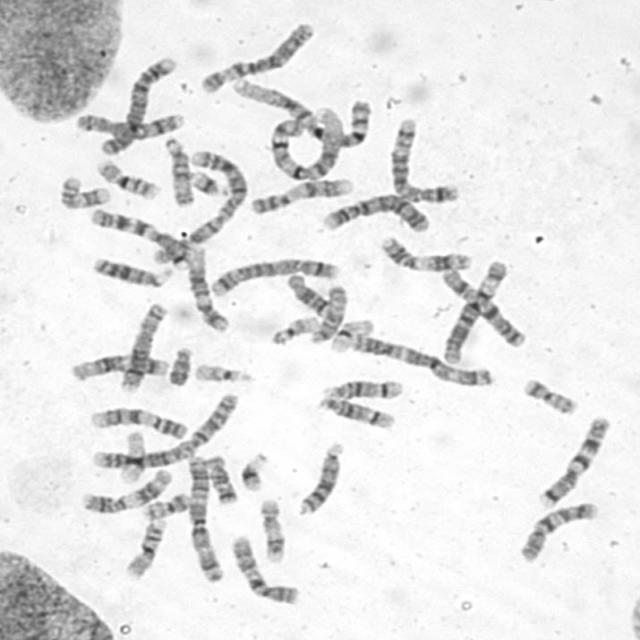A1: (228, 75, 374, 148), (266, 105, 346, 183)
A2: (92, 393, 242, 473), (152, 150, 248, 266)
A3: (350, 331, 497, 387), (186, 455, 230, 586)
B4: (98, 54, 179, 156), (318, 192, 431, 234)
B5: (387, 115, 462, 205), (208, 258, 340, 298)
C10: (230, 534, 303, 606), (516, 500, 599, 563)
C11: (78, 466, 174, 515), (382, 236, 474, 272)
C12: (184, 243, 232, 333), (70, 352, 170, 383)
C6: (198, 19, 320, 94), (440, 260, 511, 366)
C7: (537, 414, 613, 509), (88, 205, 189, 270)
C8: (120, 303, 169, 392), (74, 112, 186, 142)
C9: (248, 175, 356, 216), (88, 406, 192, 442)
D13: (294, 442, 349, 519), (90, 253, 176, 290)
D14: (317, 397, 398, 430), (318, 378, 409, 401)
D15: (159, 135, 198, 208), (306, 282, 349, 346)
E16: (95, 158, 163, 202), (124, 518, 169, 580)
E17: (256, 498, 288, 564), (58, 176, 113, 210)
E18: (285, 272, 330, 317), (201, 455, 240, 503)
F19: (326, 316, 377, 358), (116, 429, 148, 486)
F20: (522, 376, 581, 417), (137, 491, 192, 522)
G21: (237, 450, 268, 494), (186, 169, 232, 198)
G22: (270, 316, 320, 346), (194, 362, 258, 384)
X: (440, 266, 526, 349)
Y: (166, 346, 194, 387)
